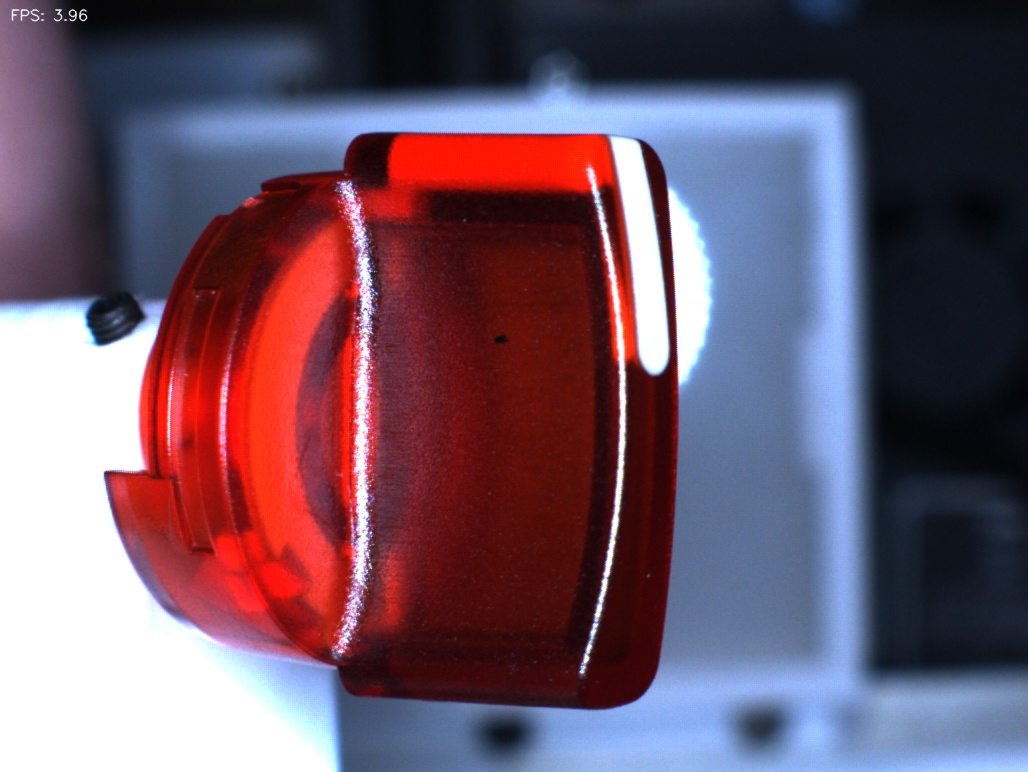PointNoir: (462, 298, 549, 380)
